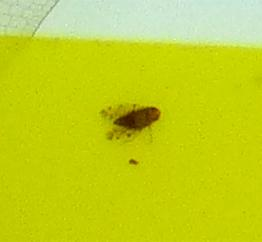Hemiptera: (100, 100, 162, 142)
